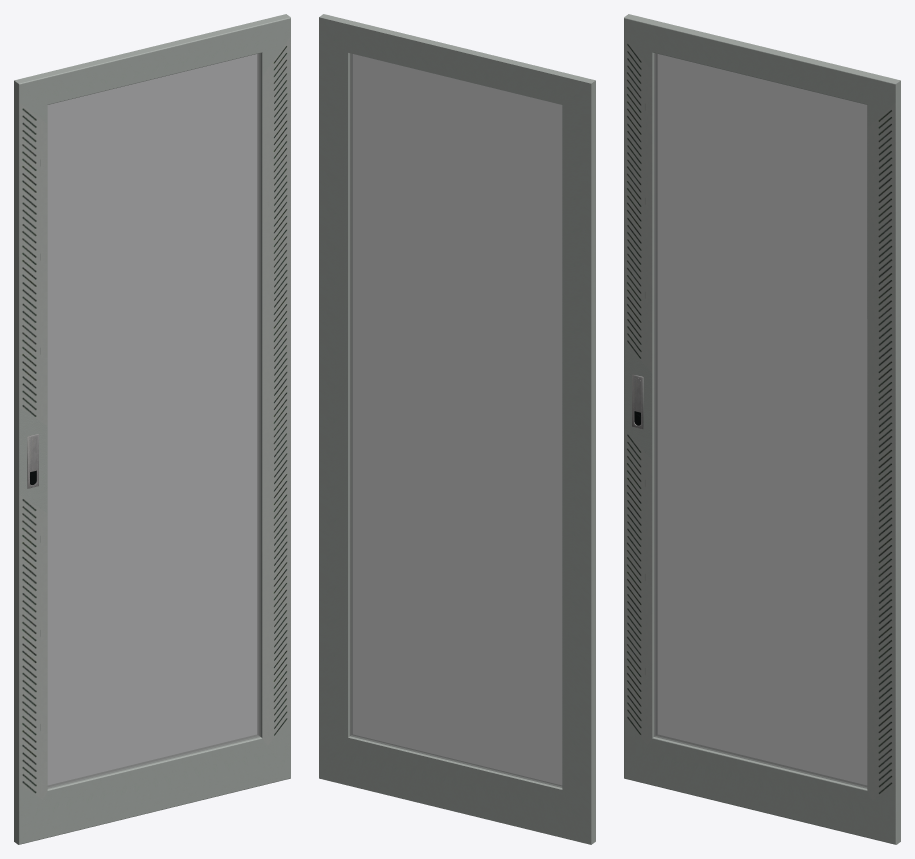
The model's file is DCG_men.FBX.
3 views of the same model, side by side, from view 1: azimuth 30°, elevation 25°; view 2: azimuth 150°, elevation 25°; view 3: azimuth 330°, elevation 25° (orthographic).
Parts seen in each view (by area): view 1: DCG1_01; view 2: DCG1_01; view 3: DCG1_01.
Boxes of the visible parts, <box> form: DCG1_01: <box>14,14,290,844</box>; DCG1_01: <box>319,14,595,844</box>; DCG1_01: <box>624,14,900,844</box>.
Bounding box in the file's own units: 80 × 214 × 2.73.
4 materials, 3 textured.
